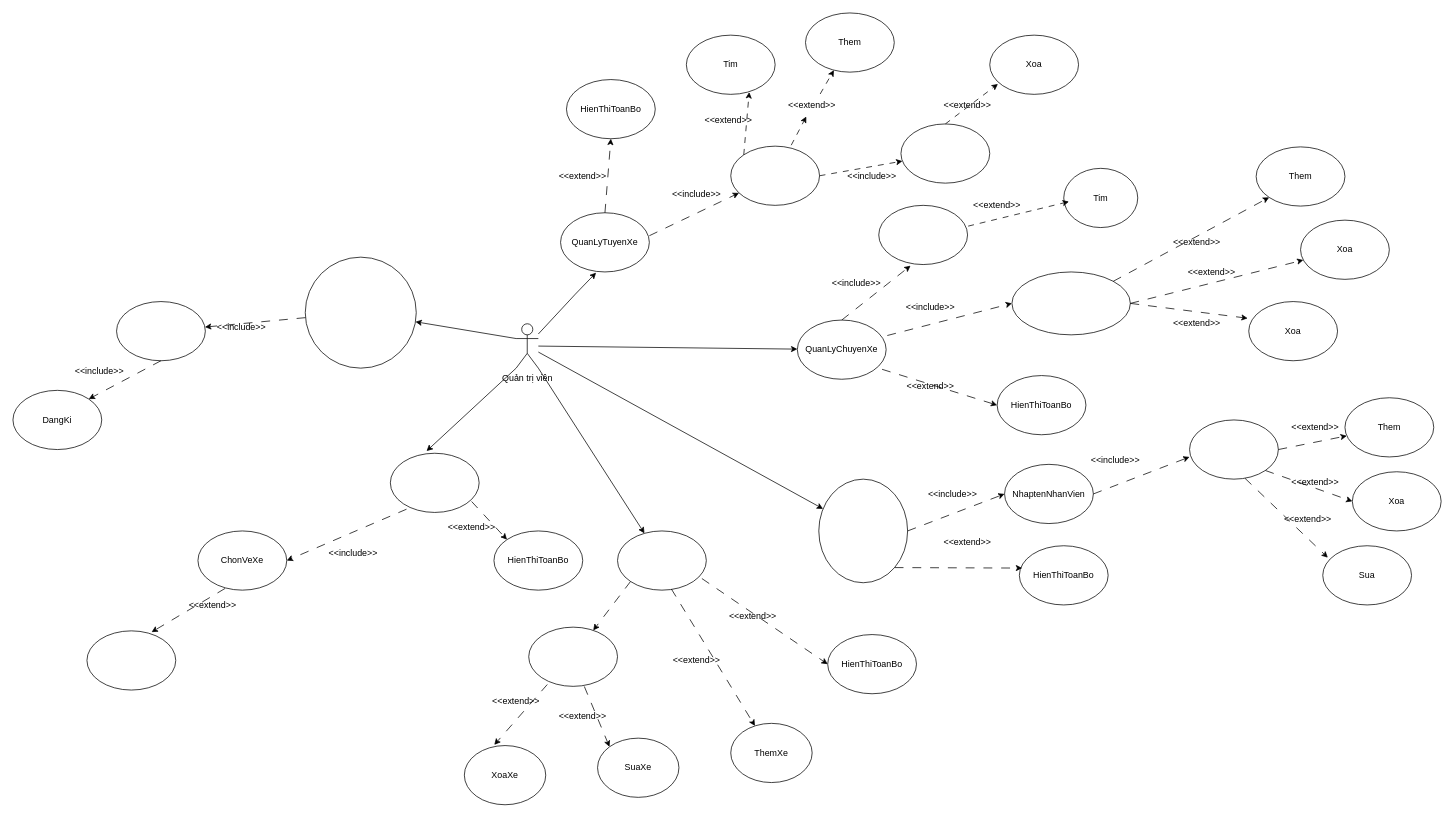
This 1454x818 diagram has some shape labels left out. Each missing label, with the centre of its shape:
ChonChuyenXe: the point at 1070,303
ChonTuyen: the point at 945,153
ChonXe: the point at 573,656
DangKiTaiKhoanNhaVien: the point at 360,312
DiemDi,DiemDen: the point at 775,175
DienThongTinTaiKhoan: the point at 160,331
NhapTuyenXe: the point at 923,235
QuanLyNhanVien,Tài khoản: the point at 863,530
QuanLyXe: the point at 661,560
Quản lý vé xe: the point at 434,482
TimNhanVien: the point at 1233,449
XoaVe: the point at 131,660
